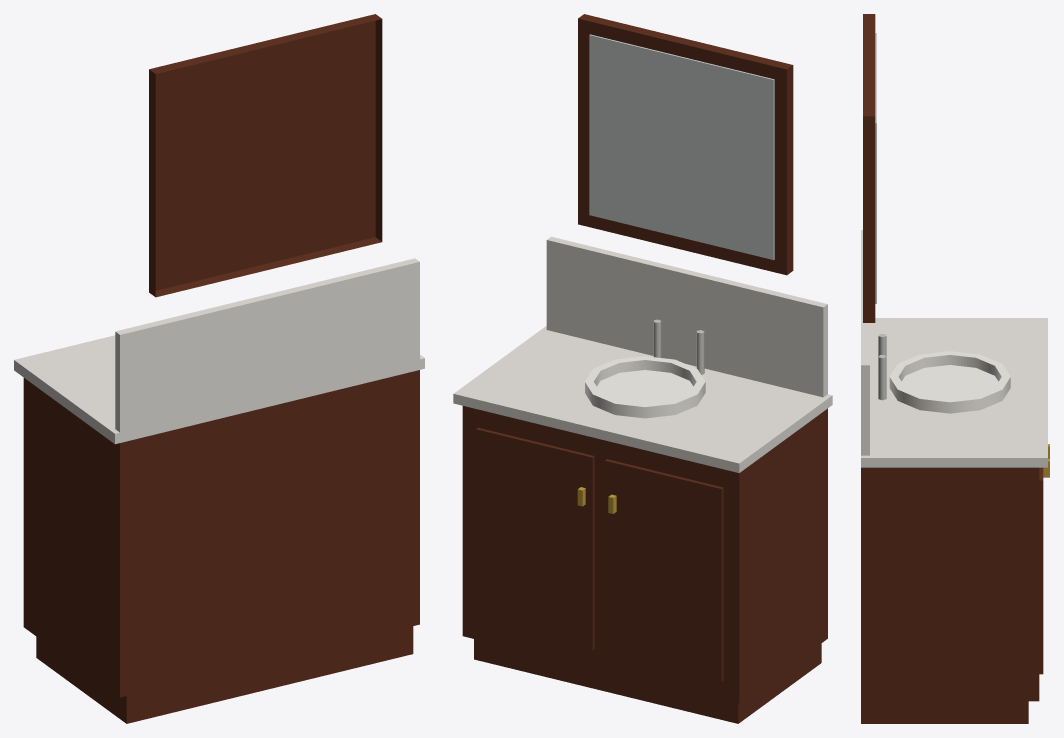
Rendered from parametric-washstand-1st.glb.
The picture shows the model from 3 angles, left to right: view 1: azimuth 30°, elevation 25°; view 2: azimuth 150°, elevation 25°; view 3: azimuth 270°, elevation 25°; orthographic projection. The views are drawn at different scales.
Parts seen in each view (by area): view 1: parametric-washstand-1st; view 2: parametric-washstand-1st; view 3: parametric-washstand-1st.
Part boxes in pixels (<box>): parametric-washstand-1st: <box>14,14,424,723</box>; parametric-washstand-1st: <box>453,14,832,723</box>; parametric-washstand-1st: <box>861,14,1049,723</box>.
Size of the model in its own units: 0.93 by 1.84 by 0.53.
